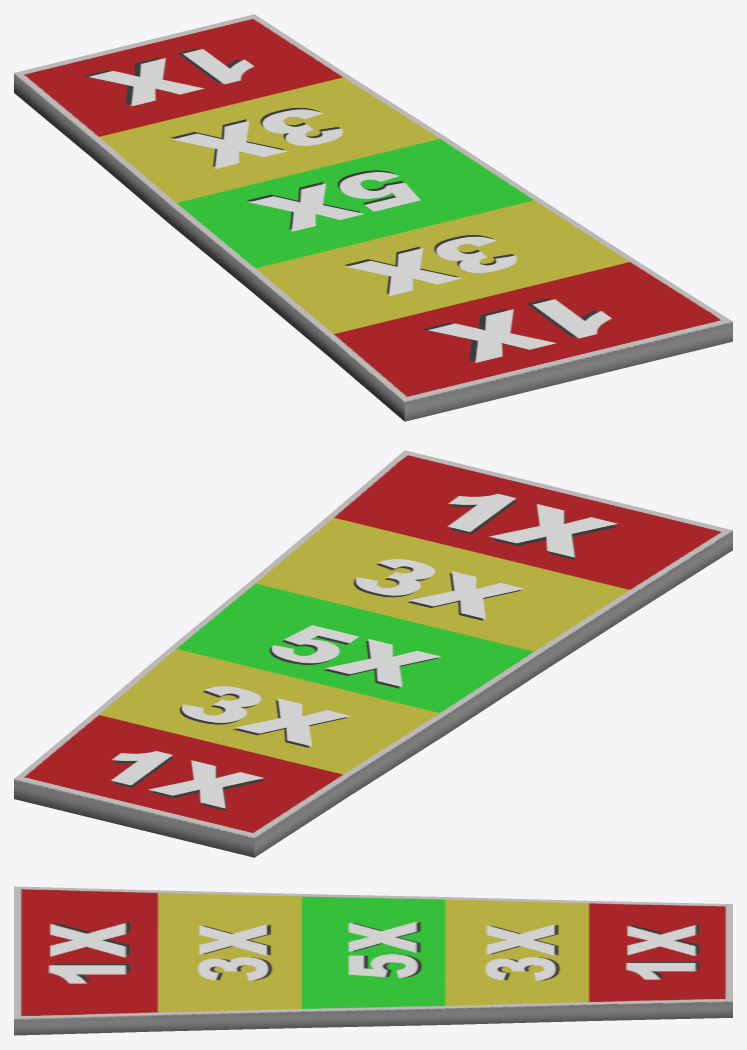
Rendered from Finish_01.fbx.
3 views of the same model, one above another, from view 1: azimuth 30°, elevation 25°; view 2: azimuth 150°, elevation 25°; view 3: azimuth 270°, elevation 25° (orthographic). The views are drawn at different scales.
Visible parts, largest first — view 1: Finish; view 2: Finish; view 3: Finish.
Boxes of the visible parts, x1,y1,x2,y2 form: Finish: (14, 14, 732, 421); Finish: (14, 450, 732, 857); Finish: (14, 886, 732, 1035).
Size of the model in its own units: 4962 by 289 by 11379.
